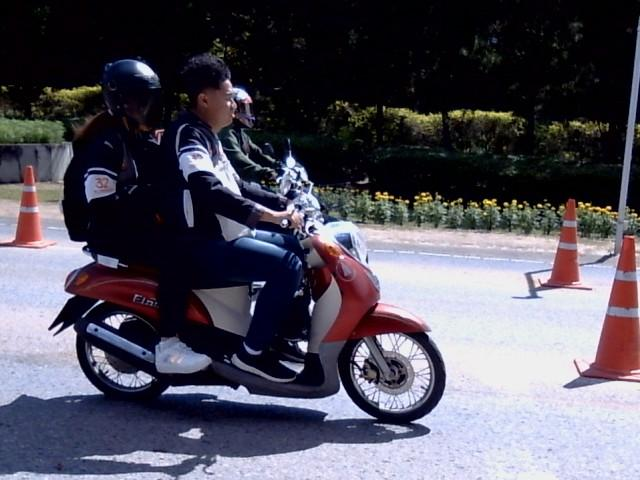helmet: (102, 58, 162, 129)
motor: (49, 207, 445, 422)
no-helmet: (176, 48, 247, 132)
person: (156, 52, 304, 380), (62, 58, 166, 267), (155, 284, 209, 373)
